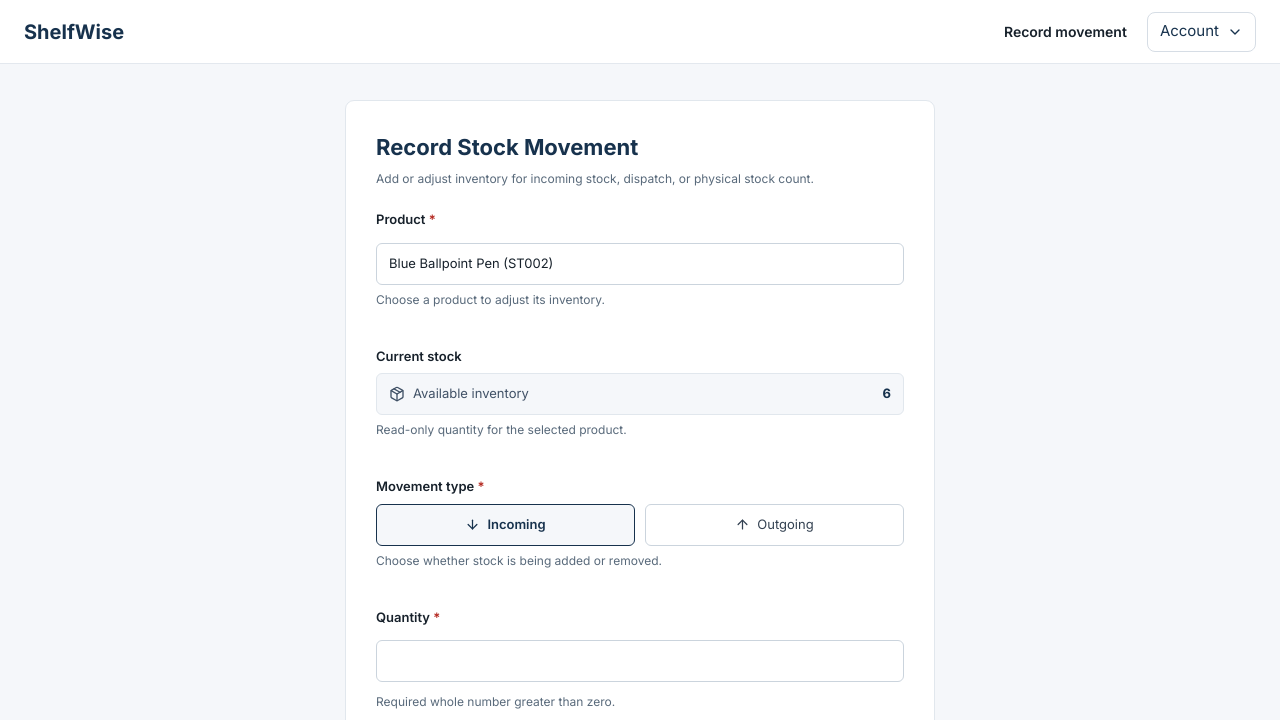
Test: RecordMovementPage › keeps entered values and rejects zero quantity before saving
This screenshot has width=1280, height=720.
Type "0" into the number field labelled "Quantity *" at (640, 661), box [376,640,904,682]
(page scrolled)
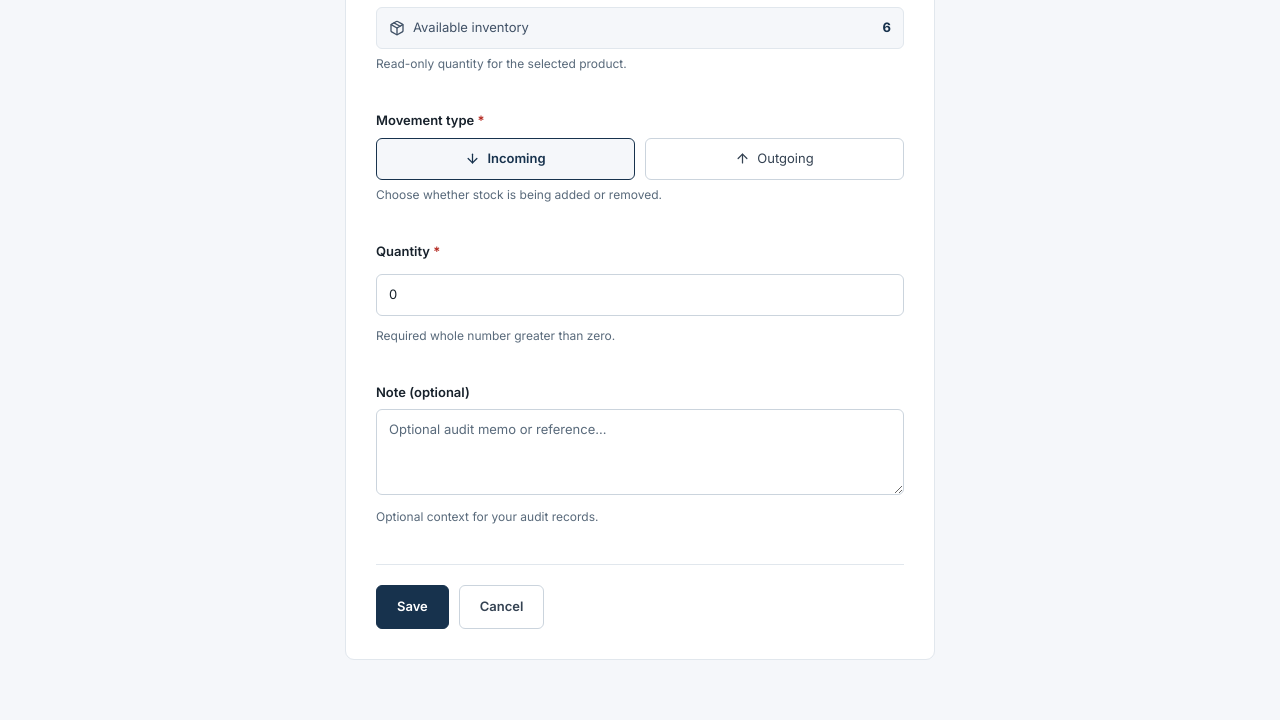
Click the button "Save" at (412, 607), box [376,585,449,629]
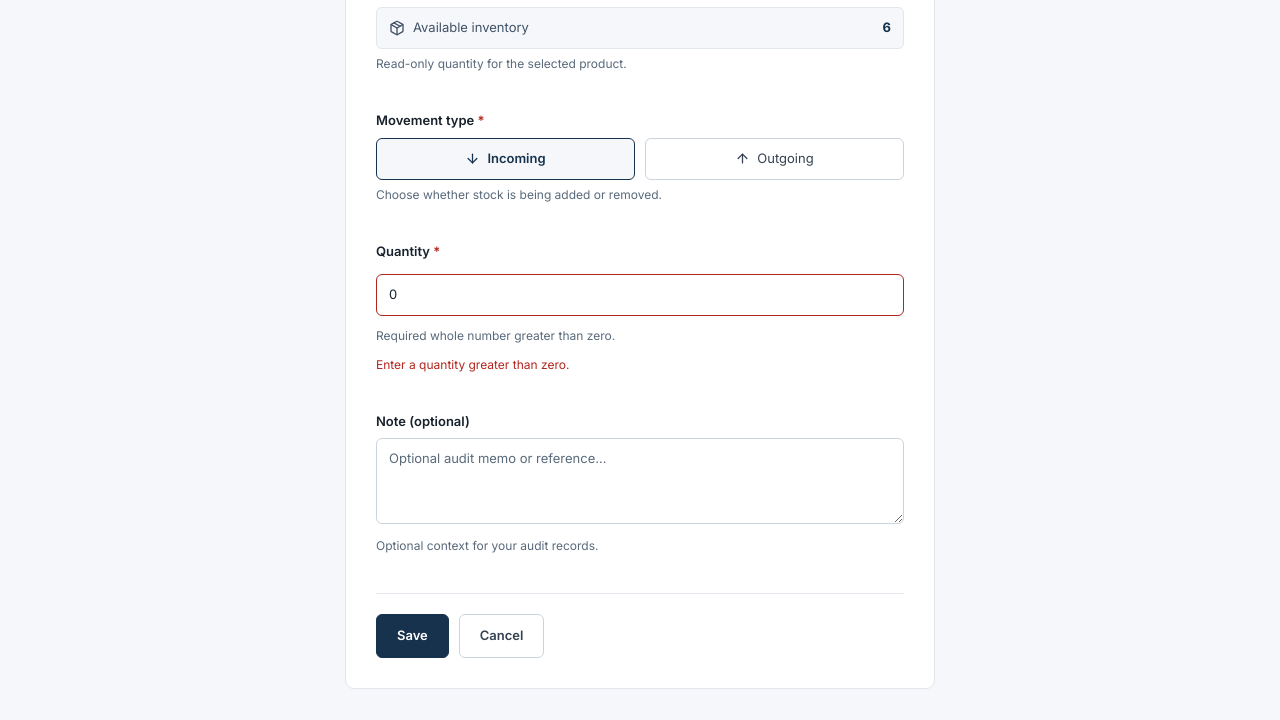
Check: the text "Enter a quantity greater than zero." is shown, box [376,357,569,372]
